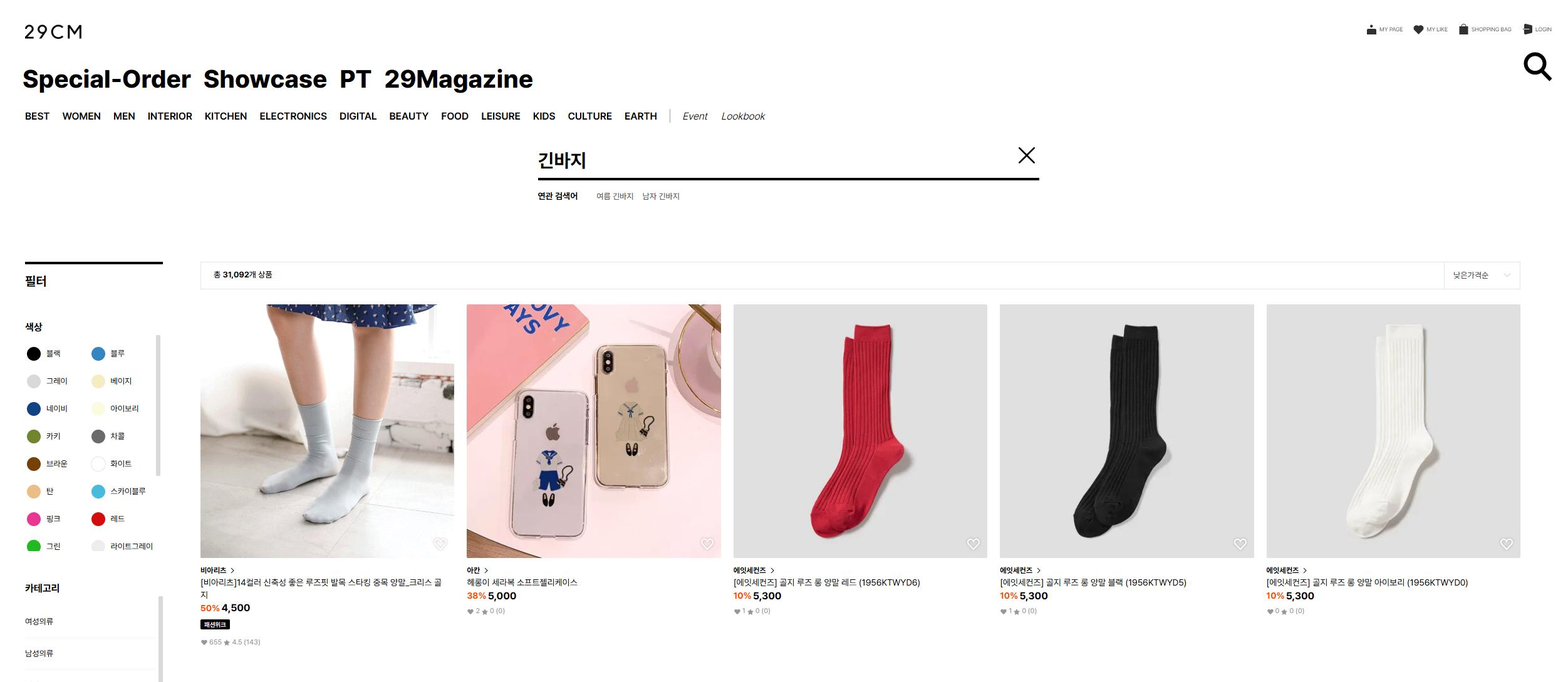button: (1514, 46, 1564, 89), (87, 535, 160, 556), (1456, 17, 1514, 39), (87, 482, 150, 502), (719, 105, 775, 127), (257, 107, 329, 124), (87, 509, 143, 530), (1362, 16, 1407, 42), (145, 105, 195, 128), (87, 454, 140, 475), (89, 398, 141, 419), (1410, 16, 1453, 41), (87, 343, 133, 366), (89, 371, 135, 394), (22, 613, 71, 633), (25, 481, 71, 502), (25, 454, 72, 474), (21, 510, 68, 530), (21, 537, 68, 557), (87, 426, 131, 447), (24, 643, 68, 664), (478, 105, 524, 125), (730, 562, 790, 577), (26, 371, 69, 391), (24, 426, 67, 446), (1521, 17, 1560, 39), (566, 106, 613, 124), (24, 343, 66, 363), (26, 398, 68, 418), (386, 106, 432, 124), (336, 107, 379, 126), (204, 108, 251, 125), (1266, 559, 1311, 576), (60, 108, 102, 126), (997, 561, 1047, 576), (1495, 529, 1521, 557), (678, 105, 711, 124), (695, 531, 719, 557), (440, 104, 471, 124), (621, 107, 659, 123), (1228, 532, 1251, 557), (20, 108, 51, 125), (431, 533, 452, 558), (963, 534, 986, 556), (200, 563, 237, 576), (463, 565, 494, 579), (112, 108, 136, 126), (531, 109, 557, 124)
checkbox: (1444, 261, 1518, 289)
input_field: (529, 140, 1061, 185)
